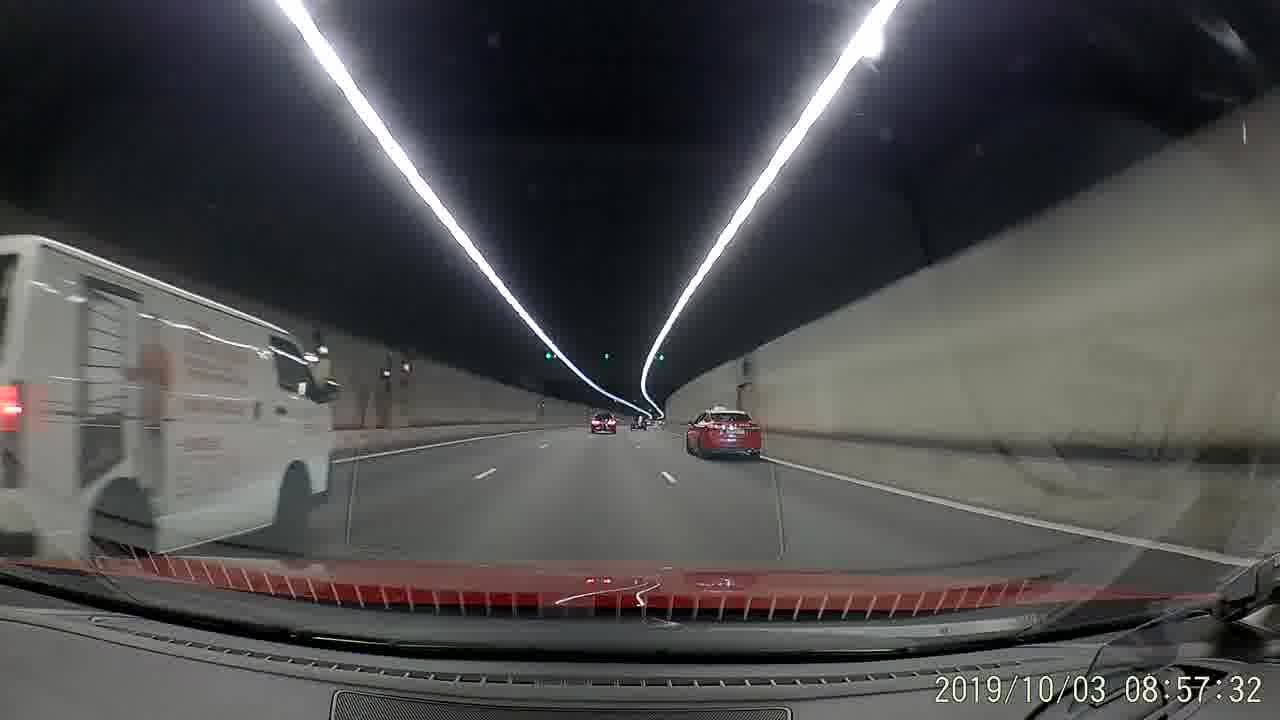car: (683, 406, 762, 462), (588, 410, 617, 435), (628, 413, 650, 432)
